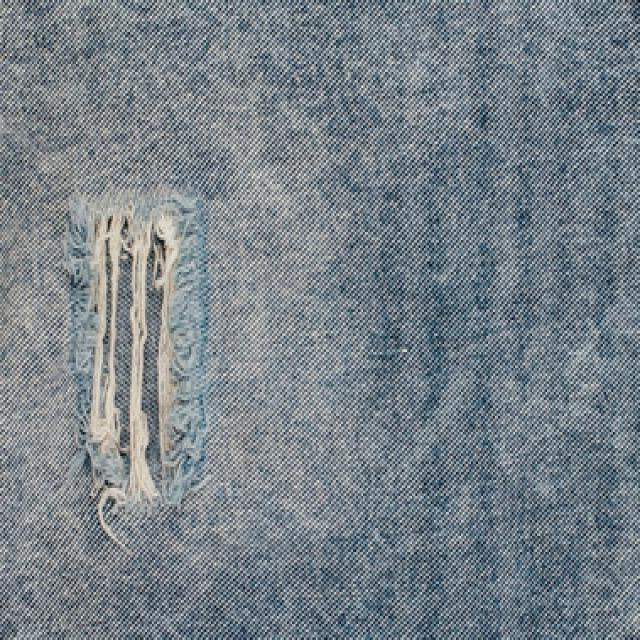Hole: (64, 190, 207, 510)
